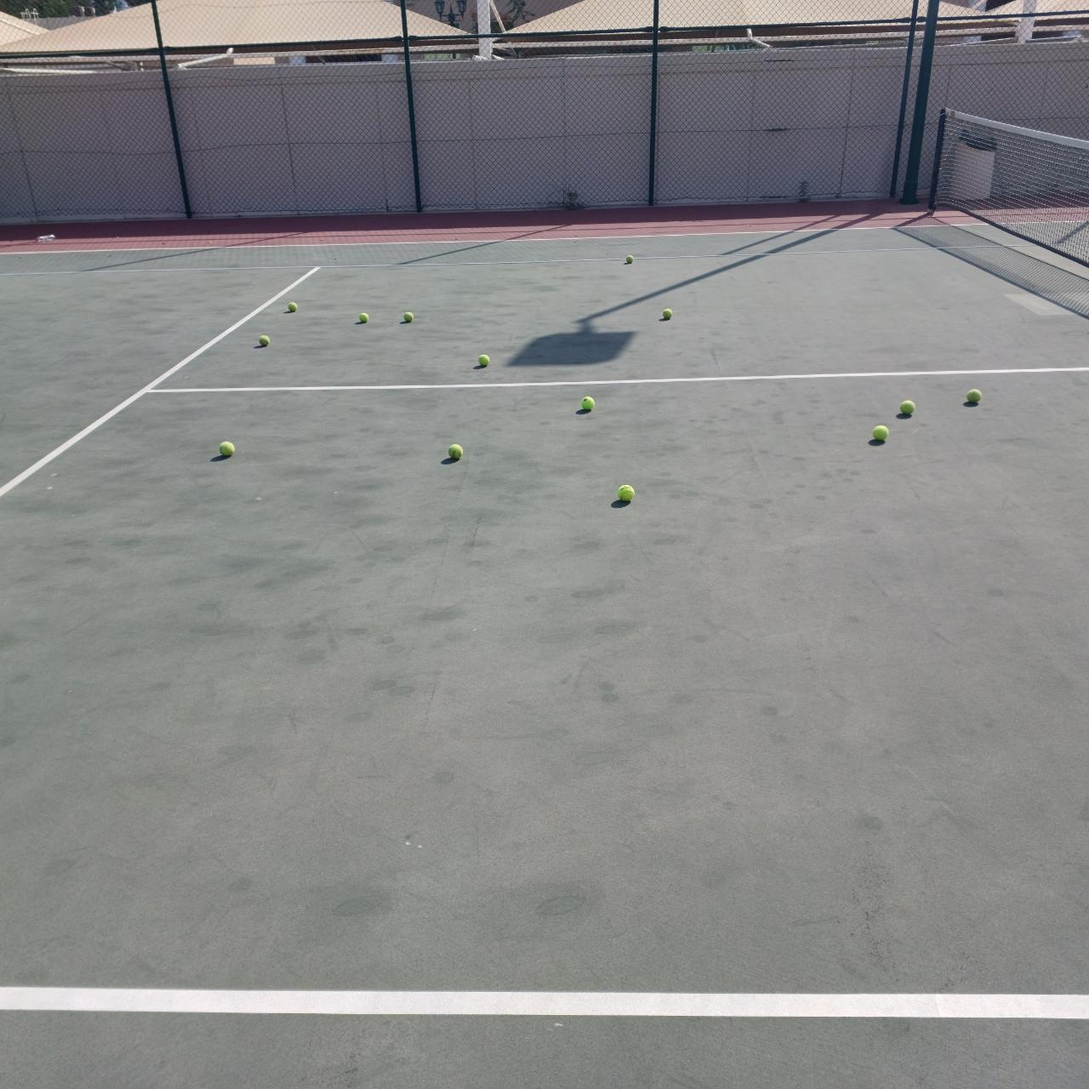tennis-ball: (617, 484, 635, 503), (217, 439, 235, 457), (446, 442, 463, 460), (873, 425, 888, 442), (966, 388, 981, 404), (899, 400, 914, 416), (580, 396, 595, 411), (478, 354, 489, 368), (259, 335, 270, 346), (403, 312, 413, 323), (663, 308, 672, 320), (288, 301, 297, 313), (359, 312, 368, 323), (626, 255, 634, 264)
